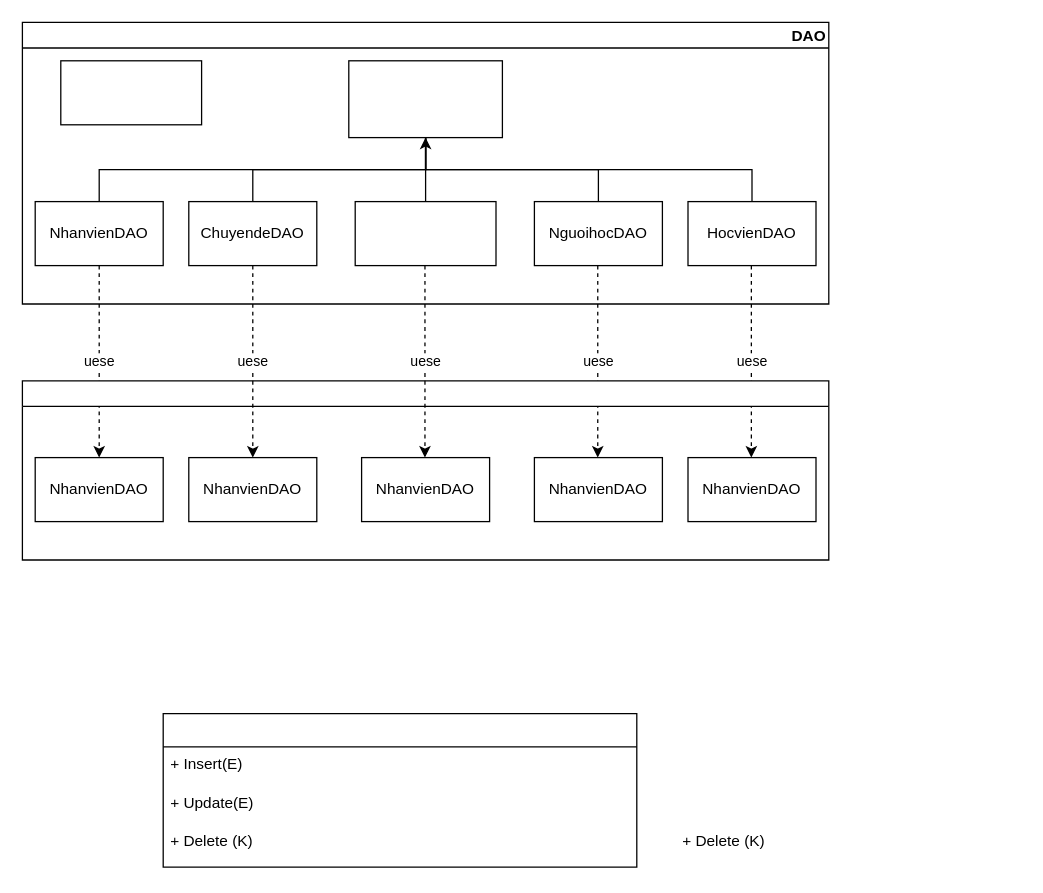
The diagram is 1043 pixels wide and 893 high, and some of its shapes have lost their labels. The box of each missing label's shape, as (x1, y1, x2, y2) in pixels:
Edu Sys Dao: (162, 712, 637, 867)
Entity: (21, 380, 829, 560)
Khoahoc: (354, 200, 496, 266)
MainDAO: (348, 60, 502, 138)
ThongkeDAO: (60, 60, 202, 125)
